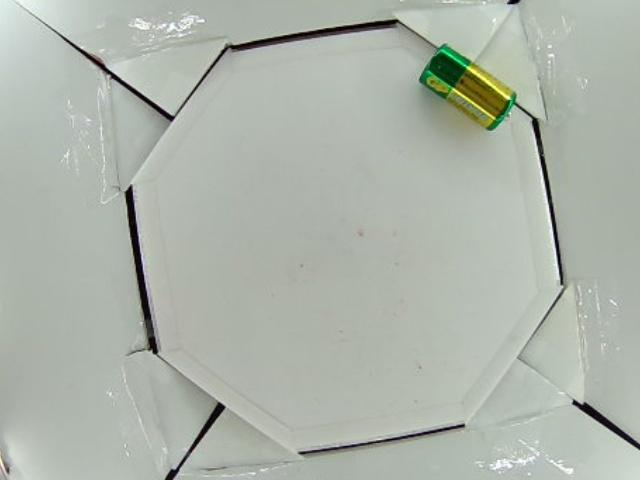Battery: (416, 43, 518, 132)
